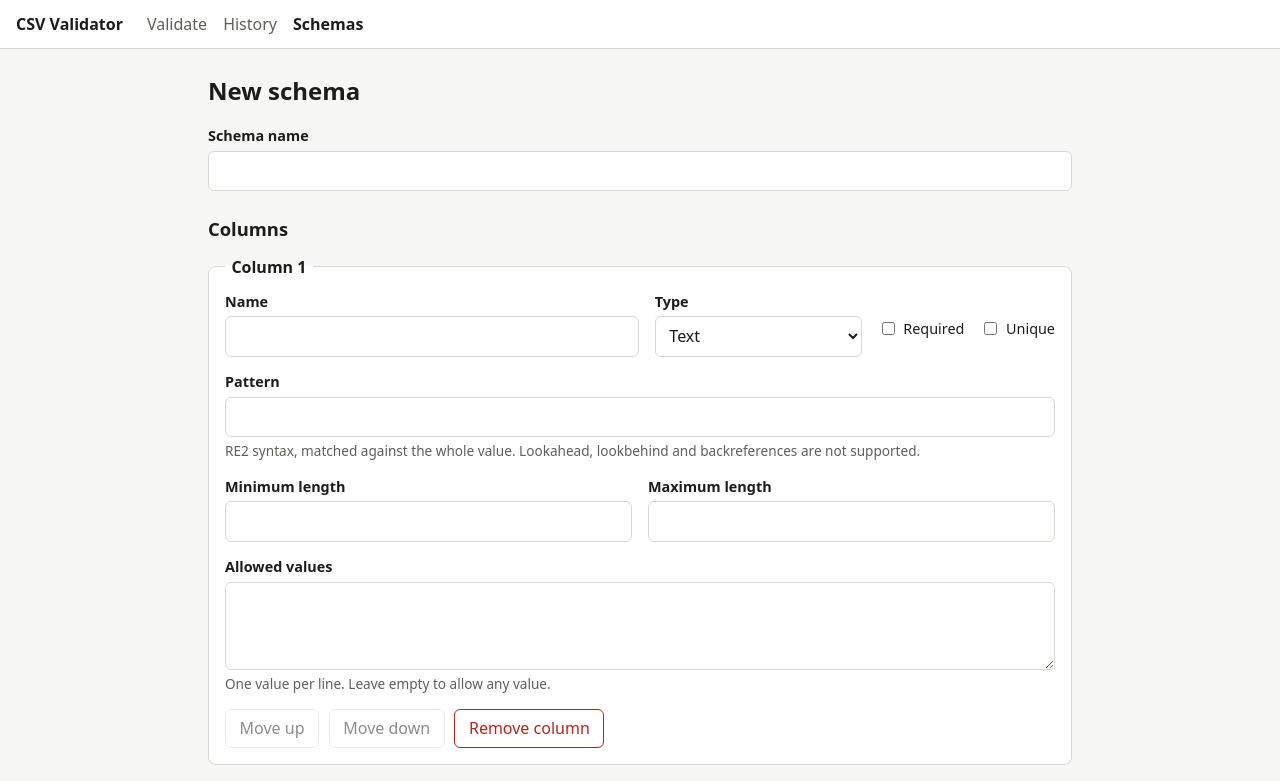
Test: SchemaEditor: fields follow the column type › shows pattern and length bounds, but no allowed values, for email
Select "Email" in the dropdown labelled "Type" at (758, 336), box x1=655 y1=316 x2=862 y2=357
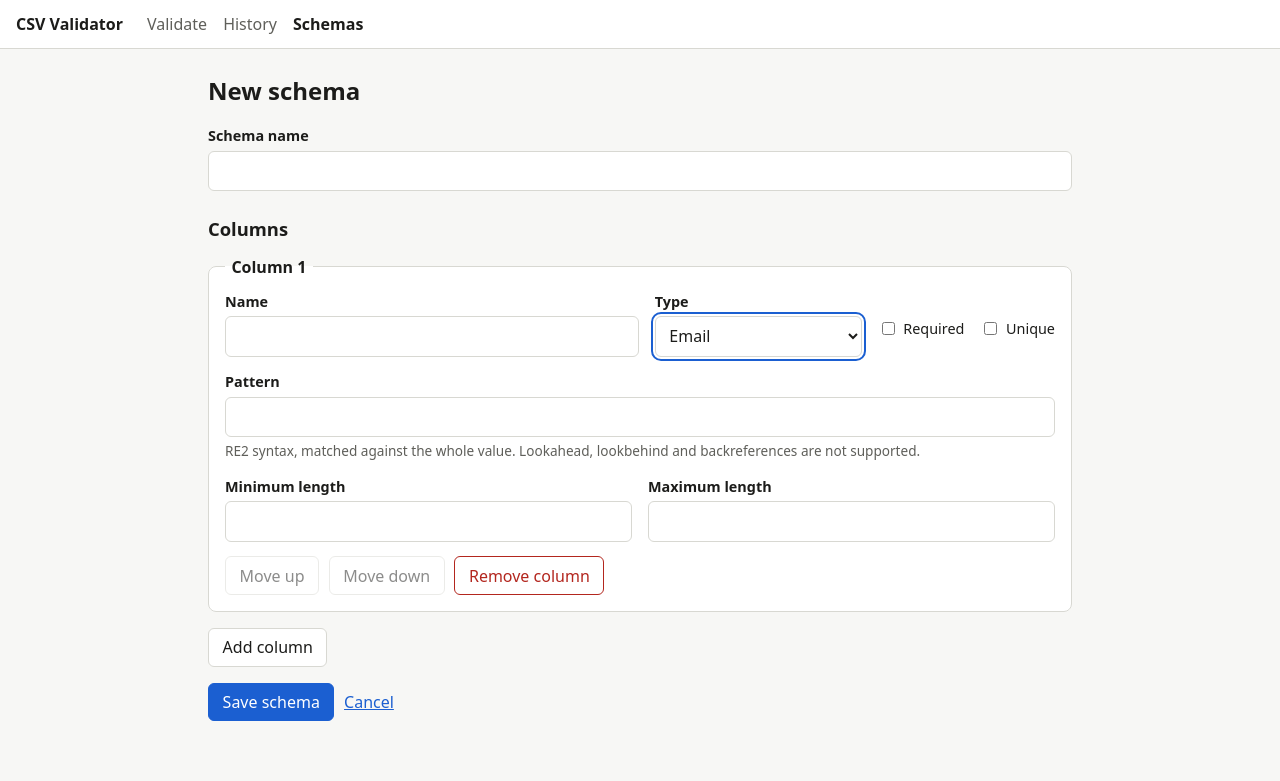
Expected: the field labelled "Pattern" is shown, x1=225 y1=397 x2=1055 y2=437
Expected: the label labelled "Allowed values" is gone
